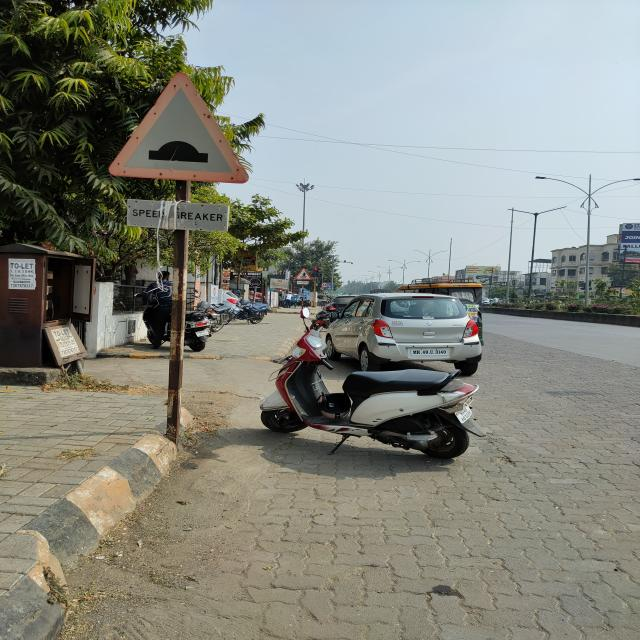horn_prohibited: (108, 73, 248, 184)
